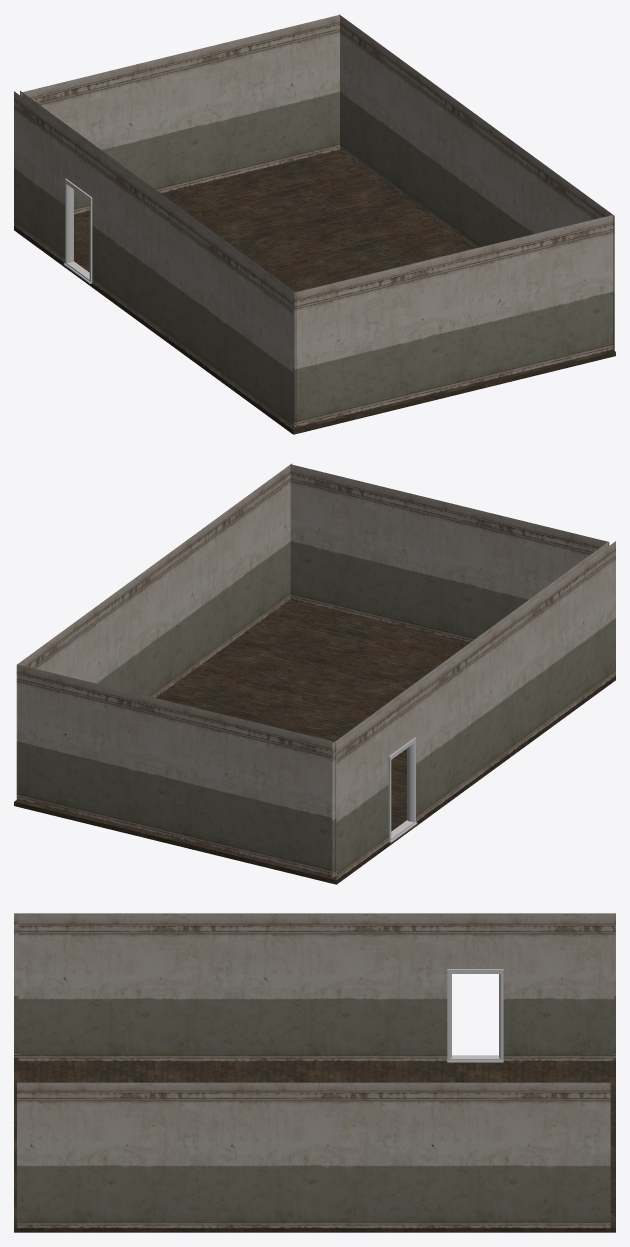
File: room_15m_x_10m.fbx
3 renders of one model, top to bottom at view 1: azimuth 30°, elevation 25°; view 2: azimuth 150°, elevation 25°; view 3: azimuth 270°, elevation 25°, orthographic. The views are drawn at different scales.
Visible parts, largest first — view 1: room_15m_x_10m; view 2: room_15m_x_10m; view 3: room_15m_x_10m.
Part boxes in pixels (<box>): room_15m_x_10m: <box>14,14,615,434</box>; room_15m_x_10m: <box>14,463,615,884</box>; room_15m_x_10m: <box>14,913,615,1232</box>.
Size of the model in its own units: 1008 by 412 by 1500.
